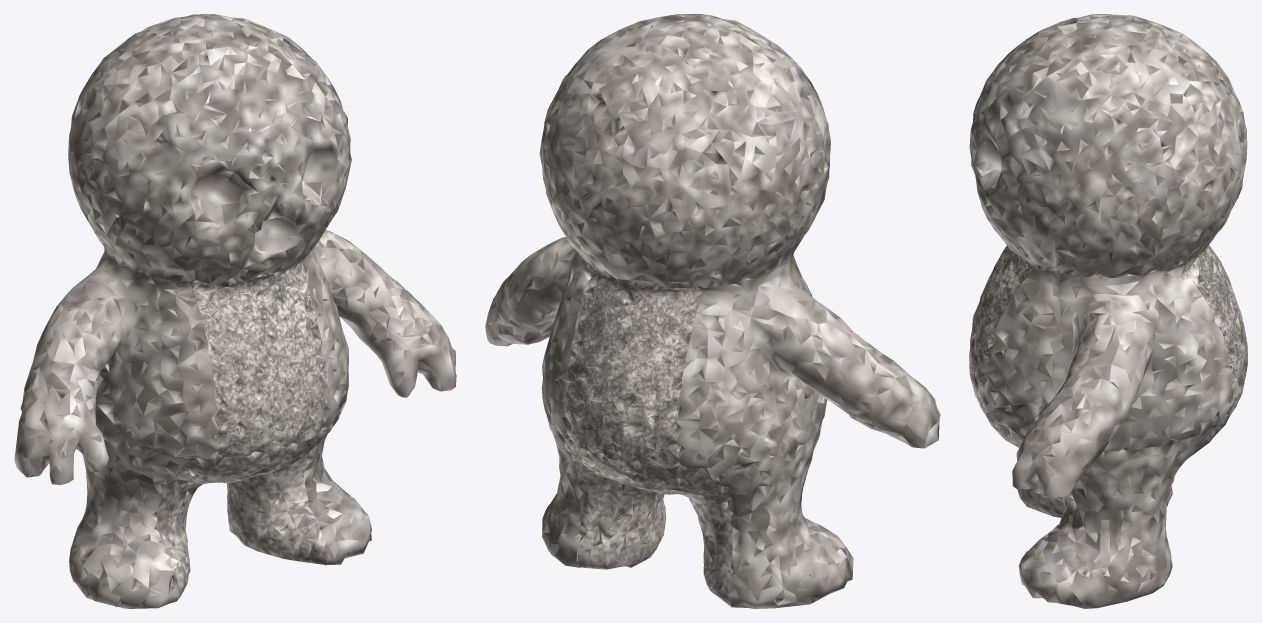
File: 23-blob-texture-bodies--honeycomb_humanoid_3d_model.glb
3 views of the same model, side by side, from view 1: azimuth 30°, elevation 25°; view 2: azimuth 150°, elevation 25°; view 3: azimuth 270°, elevation 25° (orthographic). The views are drawn at different scales.
Visible parts, largest first — view 1: arms_mesh, head_mesh, body_mesh, feet_mesh; view 2: head_mesh, arms_mesh, body_mesh, feet_mesh; view 3: arms_mesh, head_mesh, body_mesh, feet_mesh.
Part boxes in pixels (box(x1,y1,x2,y2)): arms_mesh: box(14, 230, 456, 608); head_mesh: box(68, 14, 351, 283); body_mesh: box(132, 257, 327, 457); feet_mesh: box(104, 367, 333, 600); head_mesh: box(539, 14, 830, 288); arms_mesh: box(485, 237, 940, 608); body_mesh: box(565, 263, 760, 468); feet_mesh: box(557, 354, 771, 606); arms_mesh: box(983, 261, 1233, 608); head_mesh: box(969, 14, 1247, 277); body_mesh: box(969, 245, 1247, 416); feet_mesh: box(979, 386, 1236, 557).
Bounding box in the file's own units: 2.58 × 3 × 1.47.
4 materials, 4 textured.
